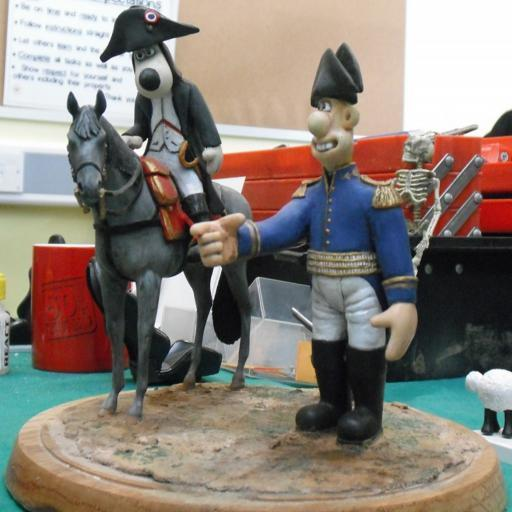horse: (66, 84, 252, 418)
